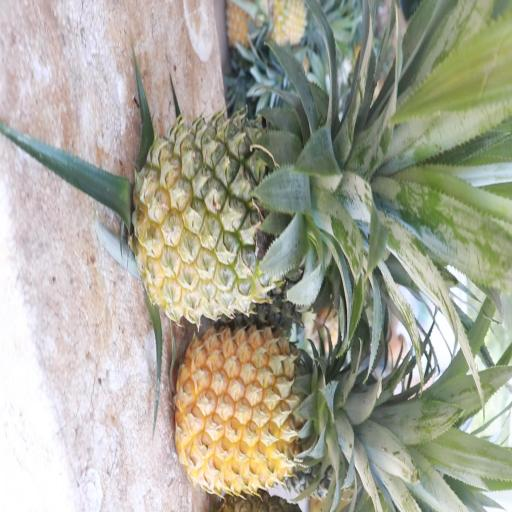------------------------------: (142, 119, 344, 317)
Pineapple - v8 v1: (177, 328, 357, 492)
